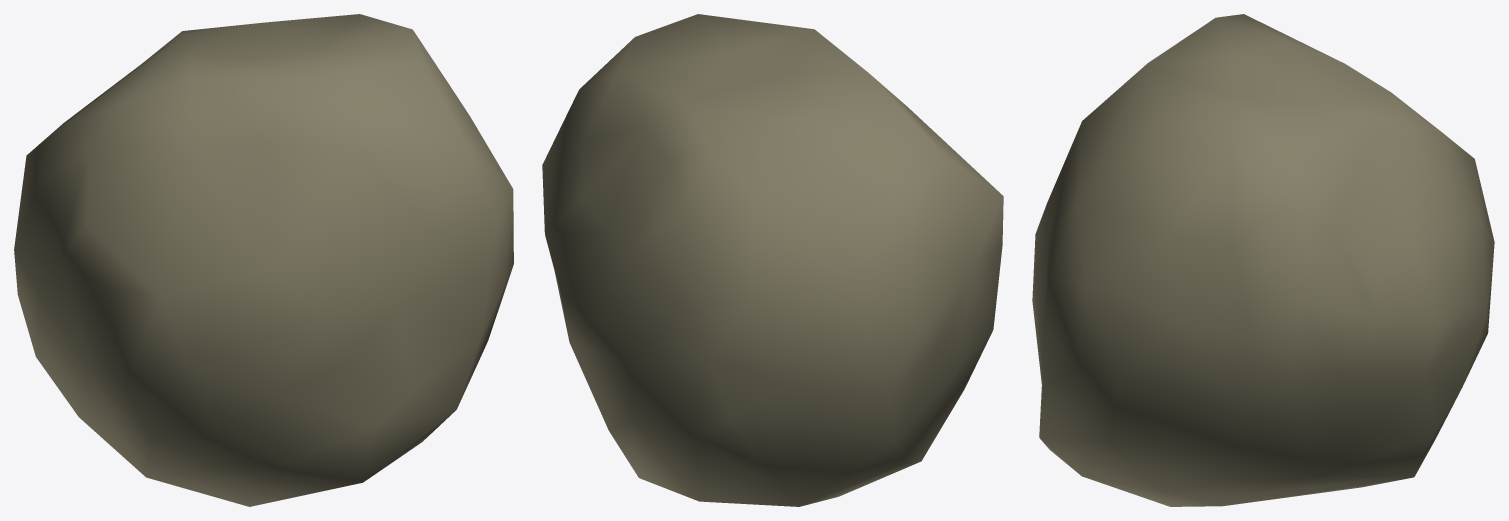
The picture shows the model from 3 angles, left to right: view 1: azimuth 30°, elevation 25°; view 2: azimuth 150°, elevation 25°; view 3: azimuth 270°, elevation 25°; orthographic projection. The views are drawn at different scales.
Visible parts, largest first — view 1: imagetostl_mesh0; view 2: imagetostl_mesh0; view 3: imagetostl_mesh0.
Part boxes in pixels (x1,y1,x2,y2): imagetostl_mesh0: [14, 14, 513, 506]; imagetostl_mesh0: [542, 14, 1003, 506]; imagetostl_mesh0: [1032, 14, 1494, 506].
Bounding box in the file's own units: 26.11 × 25.8 × 24.08.
